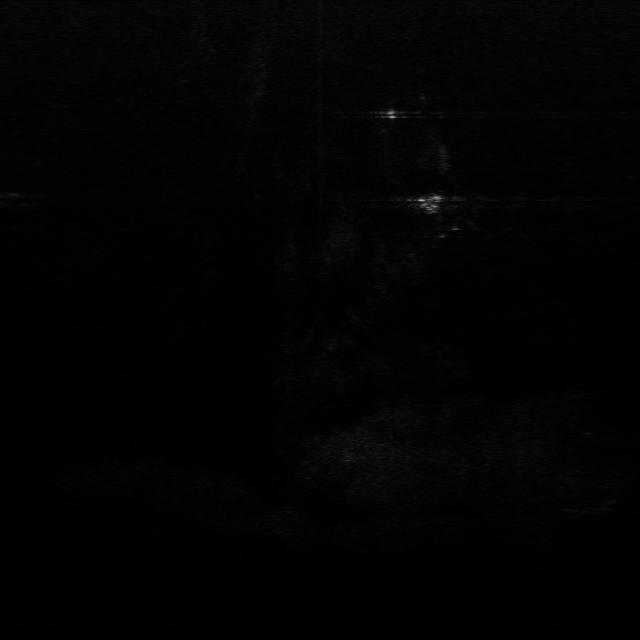rov: (413, 191, 448, 217)
